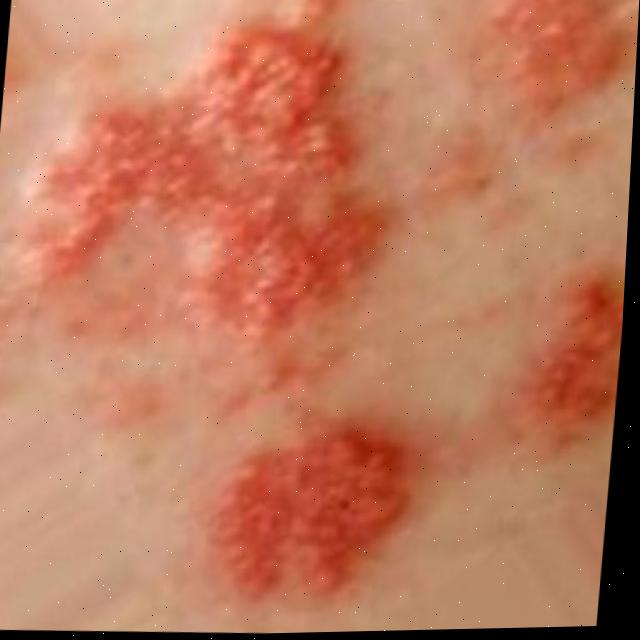Shingles: (24, 0, 378, 352), (207, 434, 413, 598), (513, 281, 625, 435), (496, 0, 624, 101)
